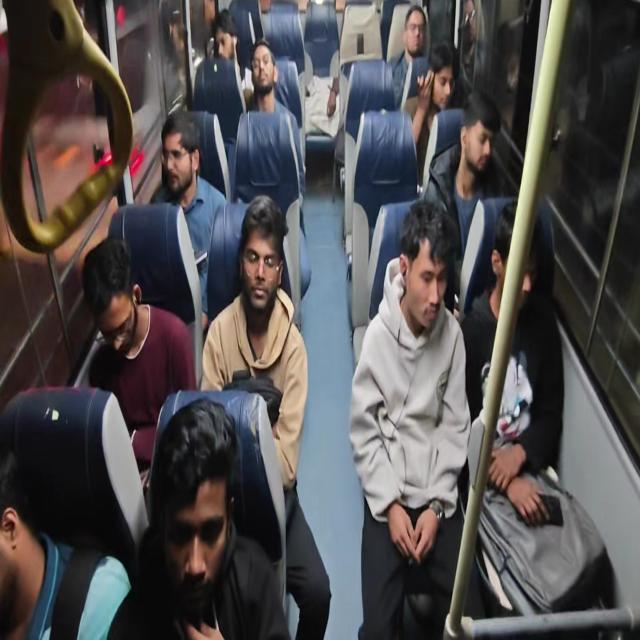person: (460, 200, 618, 619), (200, 194, 332, 638), (349, 198, 472, 638), (106, 396, 291, 639), (81, 235, 197, 487), (1, 448, 132, 639), (422, 89, 502, 313), (148, 111, 227, 328), (242, 39, 307, 222), (404, 39, 459, 188), (192, 8, 246, 145), (387, 4, 430, 110), (210, 8, 252, 101), (456, 0, 486, 102)
